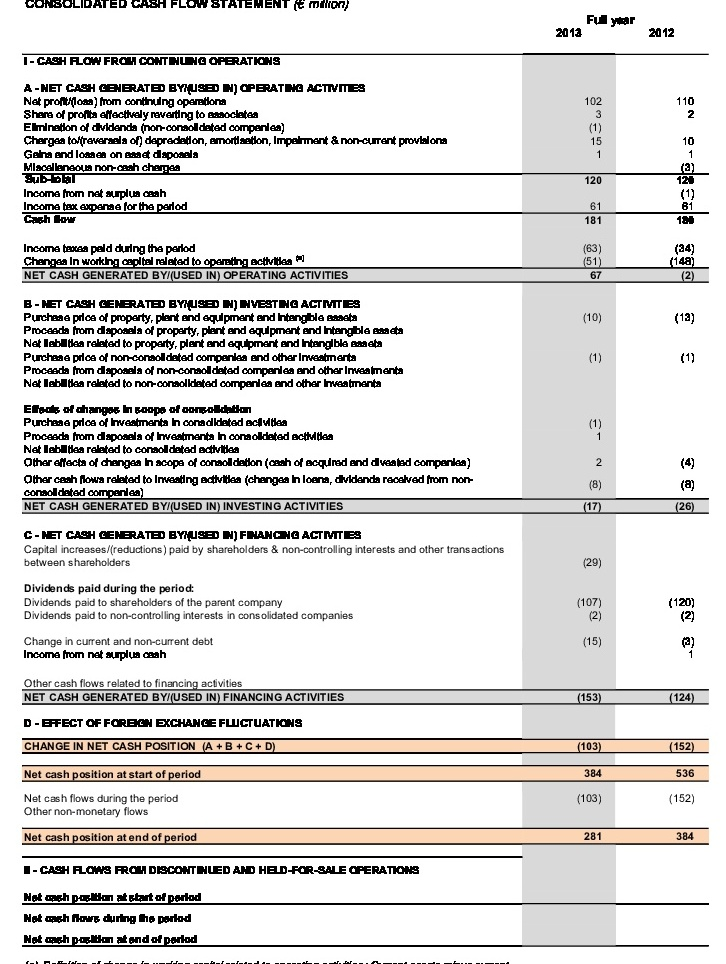table: (0, 0, 726, 964)
